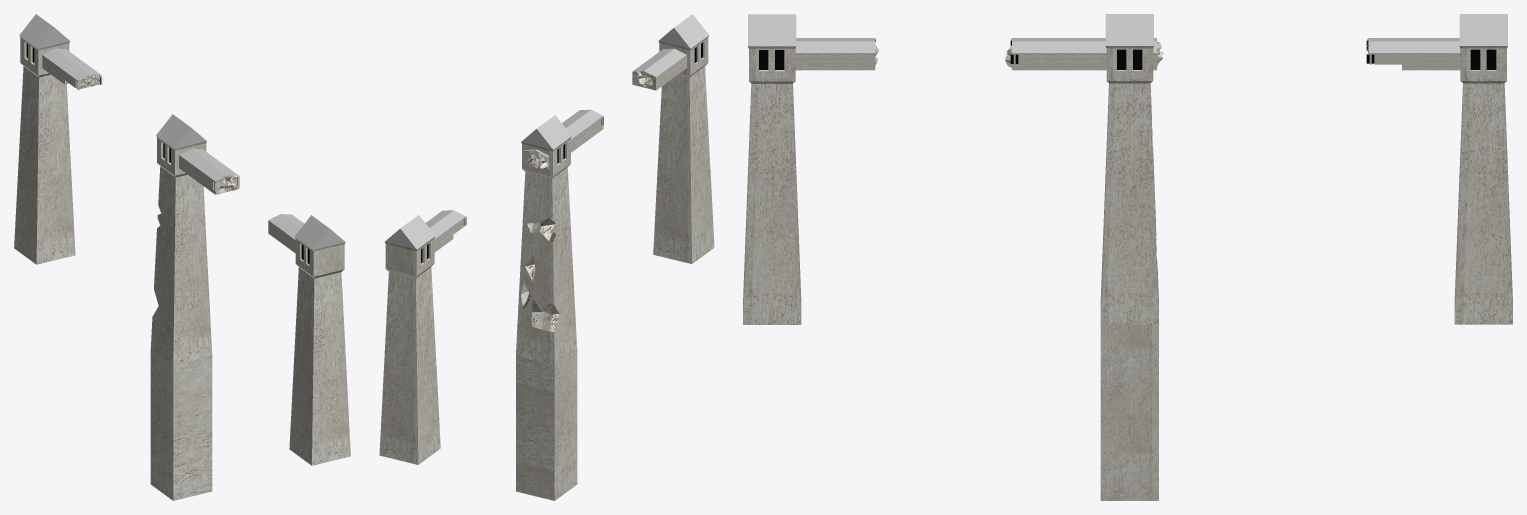
Rendered from brokencomplete boat brig.fbx.
3 renders of one model, left to right at view 1: azimuth 30°, elevation 25°; view 2: azimuth 150°, elevation 25°; view 3: azimuth 270°, elevation 25°, orthographic. The views are drawn at different scales.
Visible parts, largest first — view 1: Bridge; view 2: Bridge; view 3: Bridge.
Boxes of the visible parts, <box> form: Bridge: <box>14,14,350,500</box>; Bridge: <box>379,14,714,500</box>; Bridge: <box>743,14,1512,500</box>.
Bounding box in the file's own units: 499 × 4434 × 6513.
